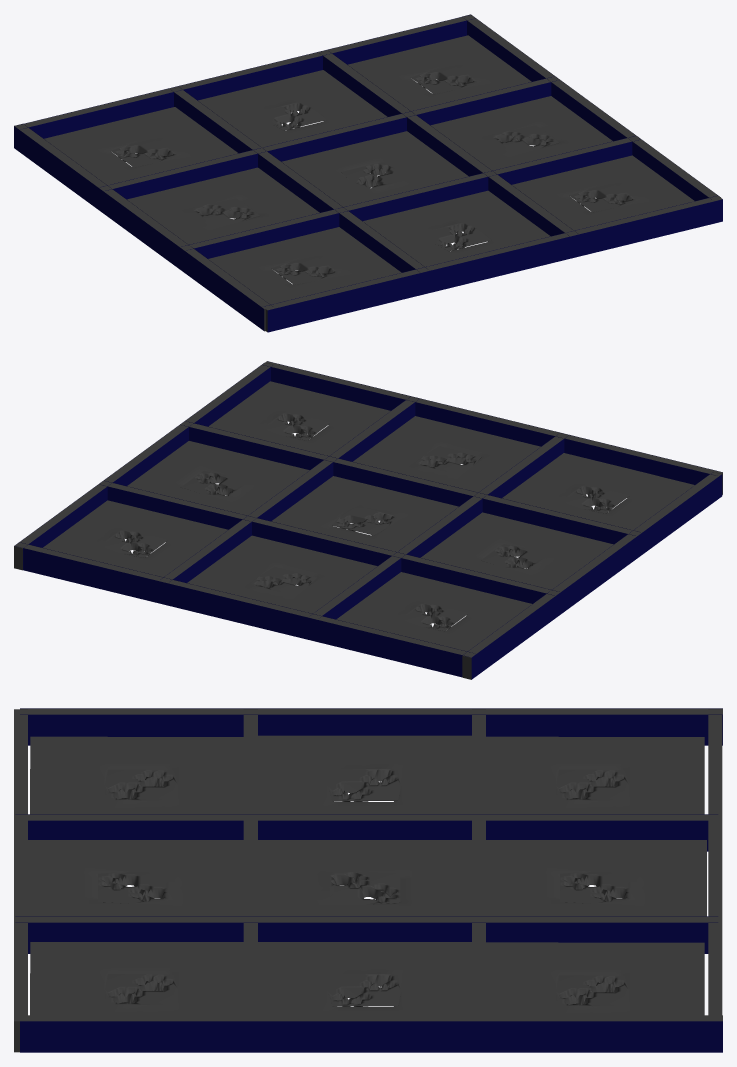
The model's file is ceilingpaw.fbx.
The picture shows the model from 3 angles, top to bottom: view 1: azimuth 30°, elevation 25°; view 2: azimuth 150°, elevation 25°; view 3: azimuth 270°, elevation 25°; orthographic projection. The views are drawn at different scales.
Visible parts, largest first — view 1: polySurface35; view 2: polySurface35; view 3: polySurface35.
Part boxes in pixels (x1=…): polySurface35: x1=14, y1=14, x2=722, y2=332; polySurface35: x1=14, y1=361, x2=722, y2=679; polySurface35: x1=14, y1=708, x2=722, y2=1052.
Size of the model in its own units: 142 by 6.61 by 136.
